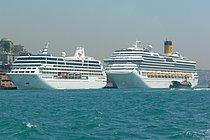Ship: (4, 40, 112, 92), (100, 39, 203, 92)
